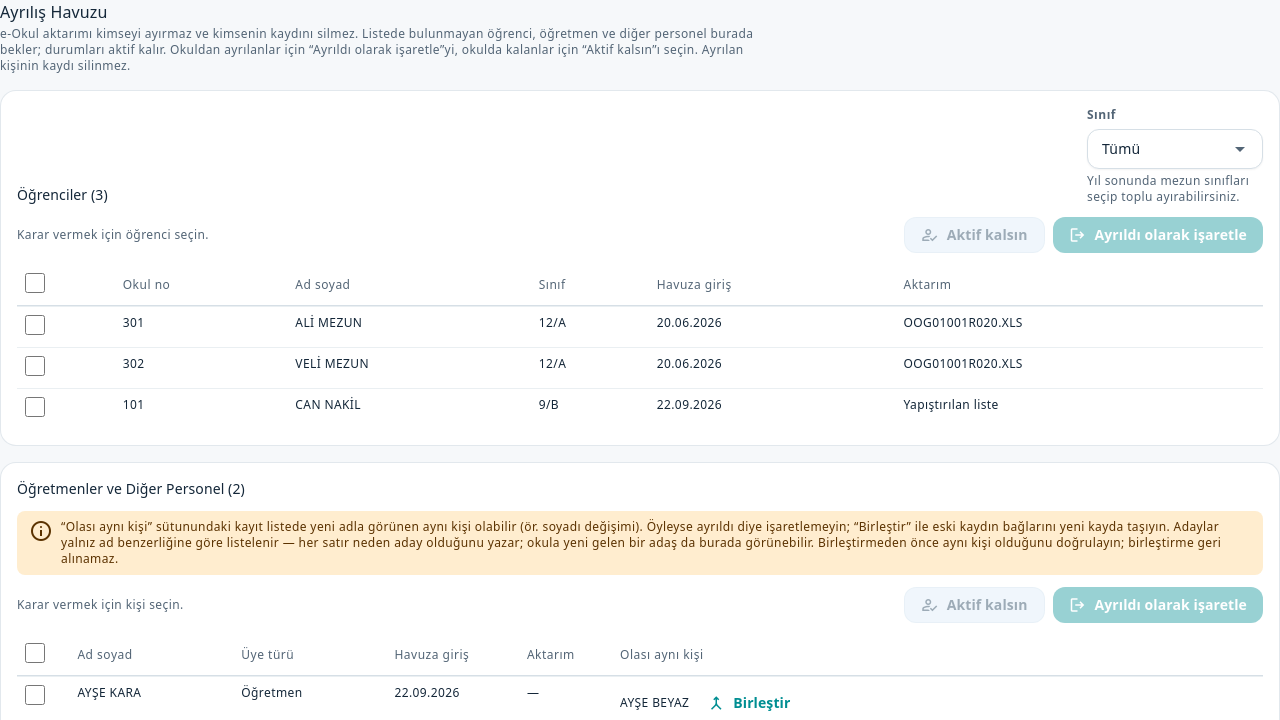
Scenario: AyrilisHavuzu — olası aynı kişi › aday gösterilir; “Birleştir” onaylı çalışır (havuzdaki kayıt kaynak)
Expected: the heading "Öğrenciler (3)" is shown, [17,185,108,205]
Expected: the text "Öyleyse ayrıldı diye işaretlemeyin" is shown, [61,518,1221,567]
Click the button with aria-label "AYŞE KARA kaydını AYŞE BEYAZ kaydıyla birleştir". click: (749, 703)
box: [697,685,800,719]
(page scrolled)
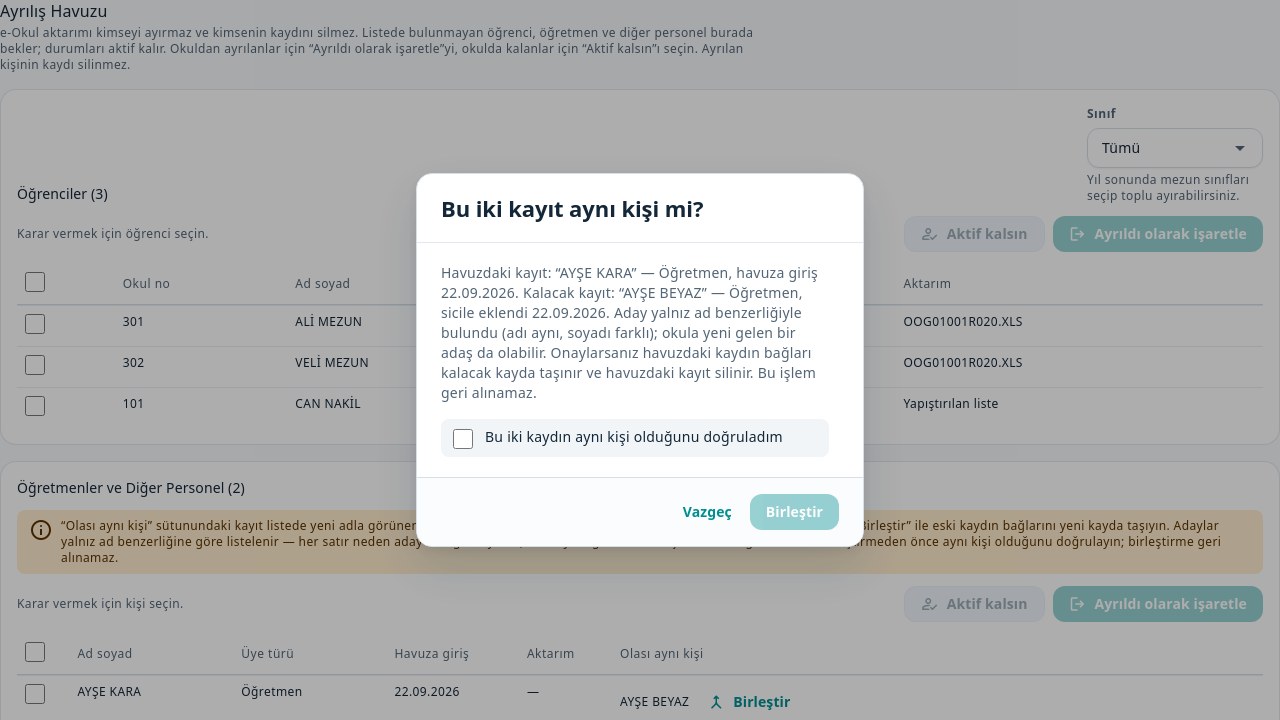
Result: the text "sicile eklendi 22.09.2026" is shown at [441,263,818,402]
Result: the button "Birleştir" is disabled at [750,494,839,530]
Click the checkbox labelled "Bu iki kaydın aynı kişi olduğunu doğruladım". click: (463, 439)
box: [453,429,473,449]
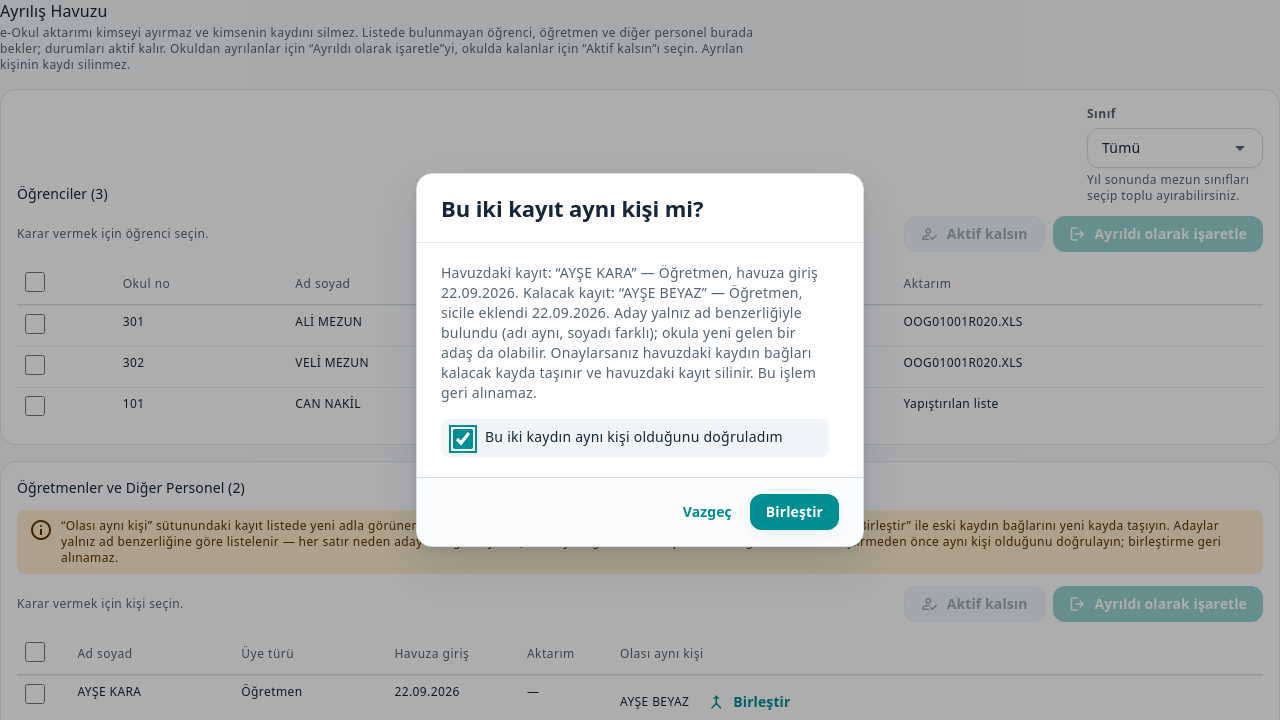
Result: the button "Birleştir" is enabled
Click the button "Birleştir". click: (794, 512)
box: [750,494,839,530]
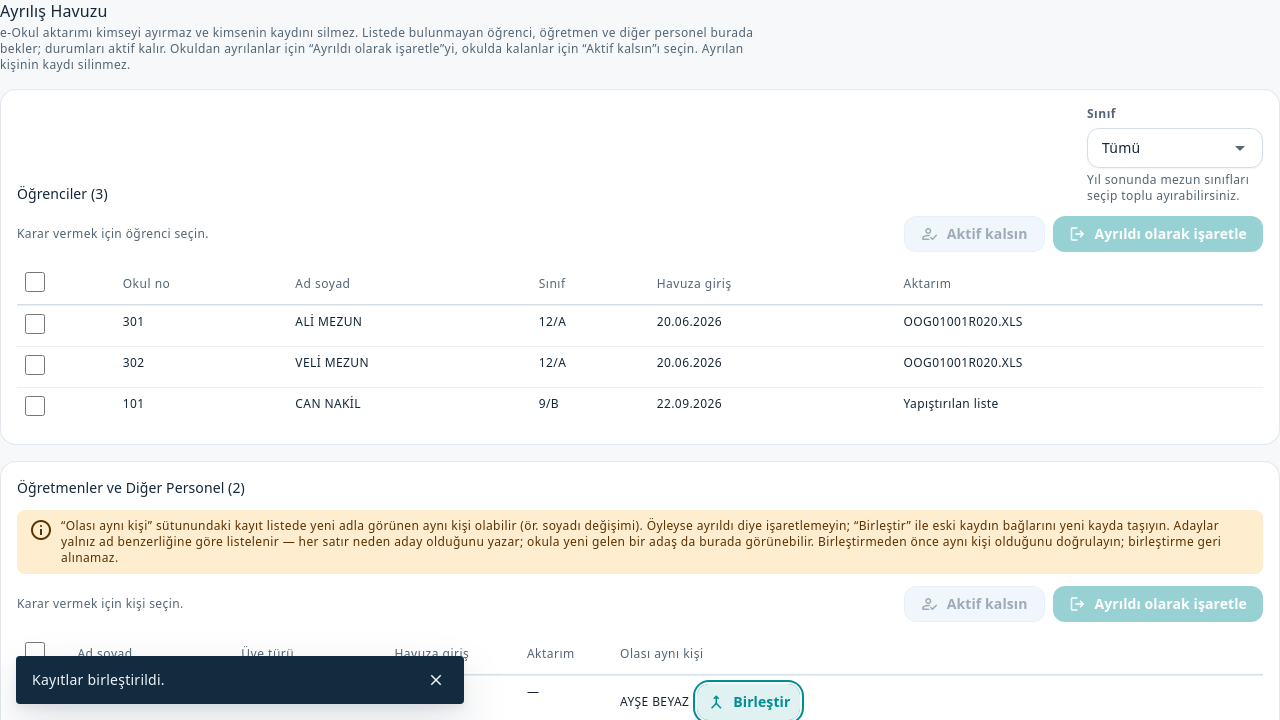
Result: the text "Kayıtlar birleştirildi." is shown at [32,670,165,689]
